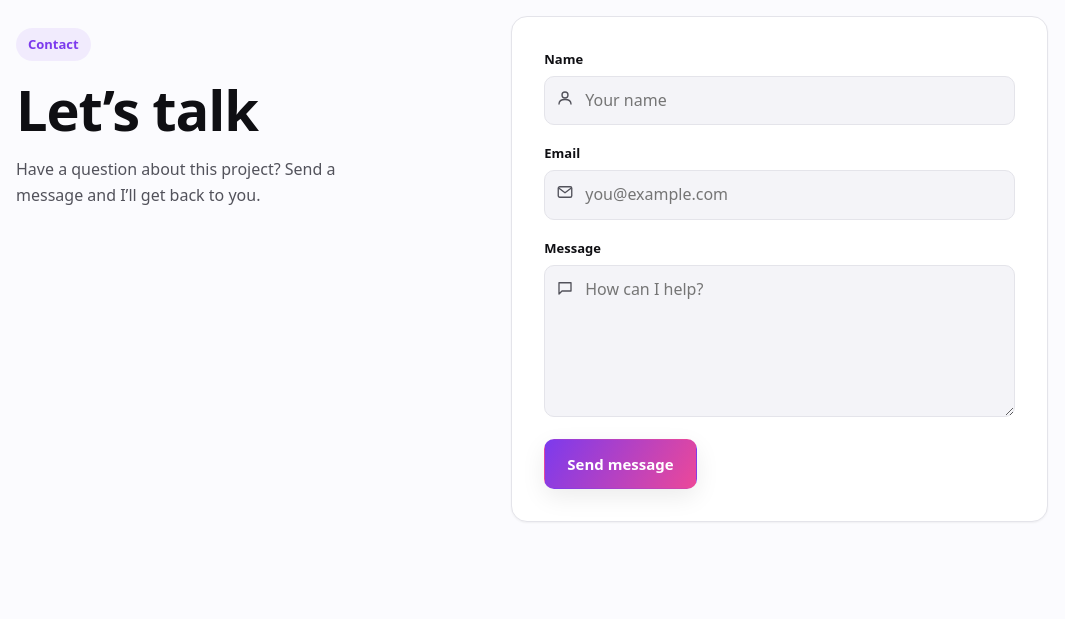
Scenario: shows validation errors for empty fields and an invalid email
Type "not-an-email" into the field labelled "Email" at point(780, 195), box [544,170,1015,220]
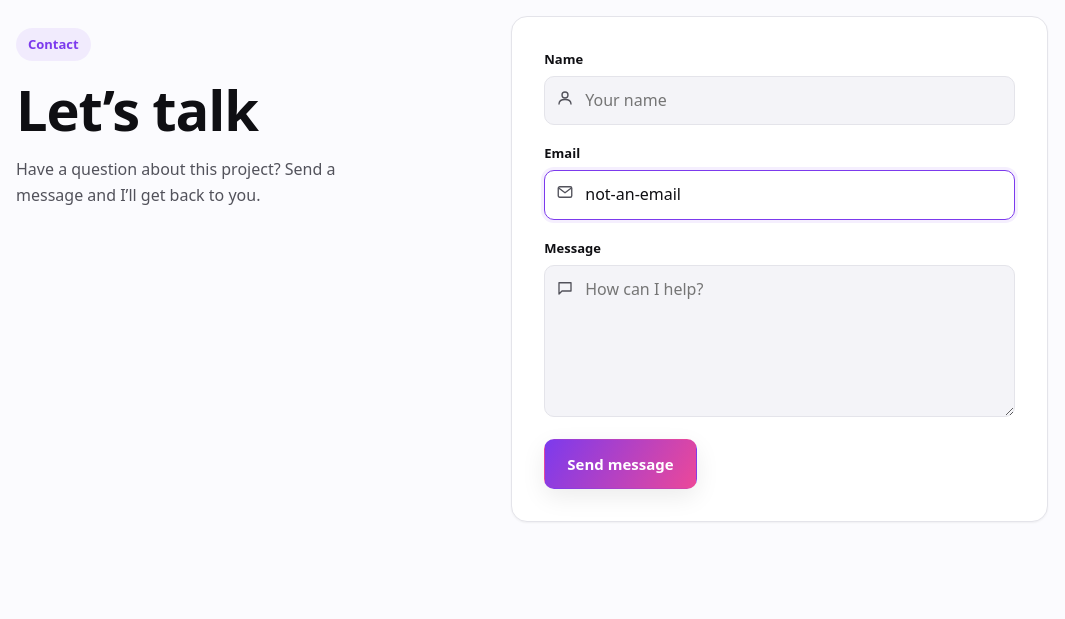
Click the button "Send message" at point(620, 464), box [544,438,697,488]
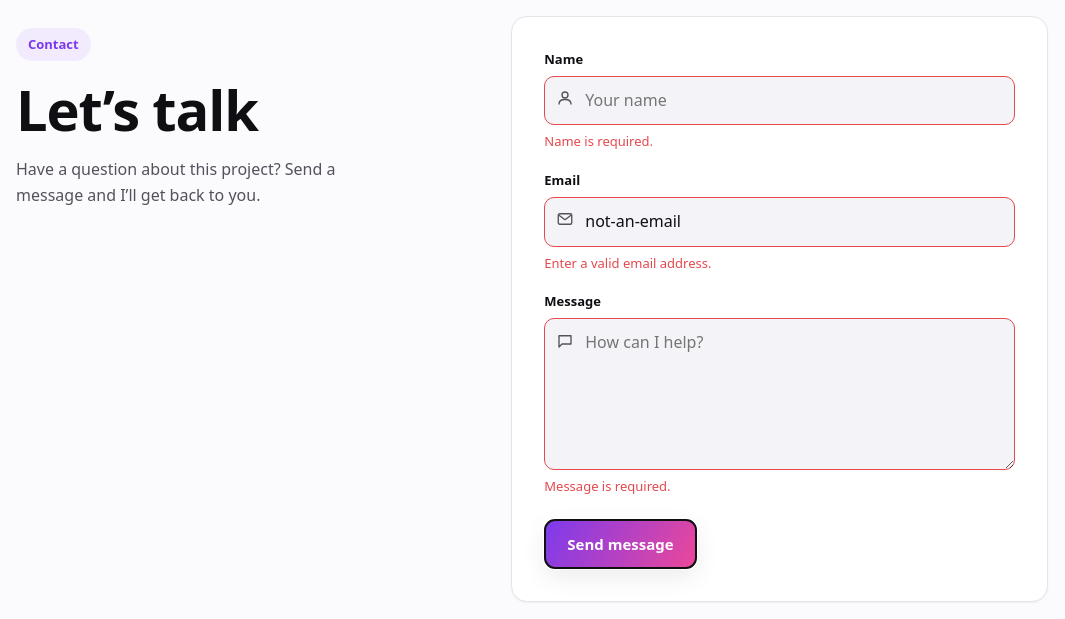
Expected: the text "Name is required." is shown, [544,132,653,150]
Expected: the text "Enter a valid email address." is shown, [544,254,712,272]
Expected: the text "Message is required." is shown, [544,477,671,495]
